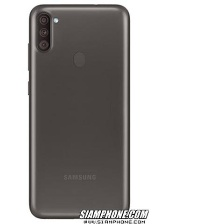phone: (22, 1, 134, 223)
